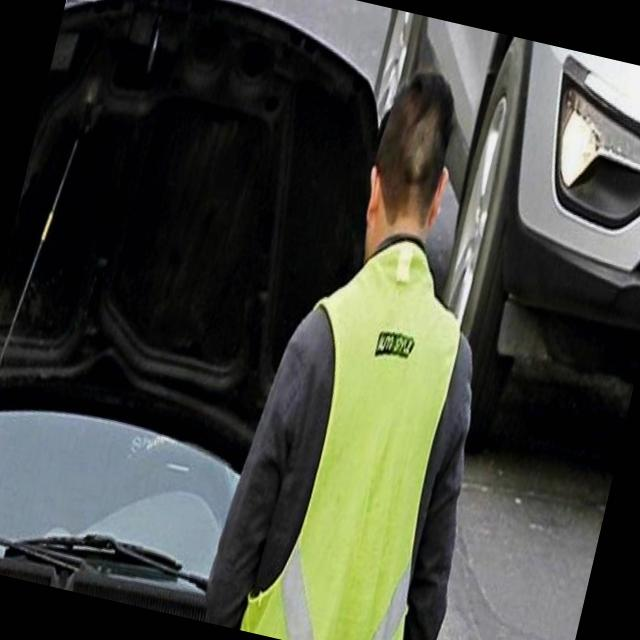vest: (234, 241, 484, 640)
